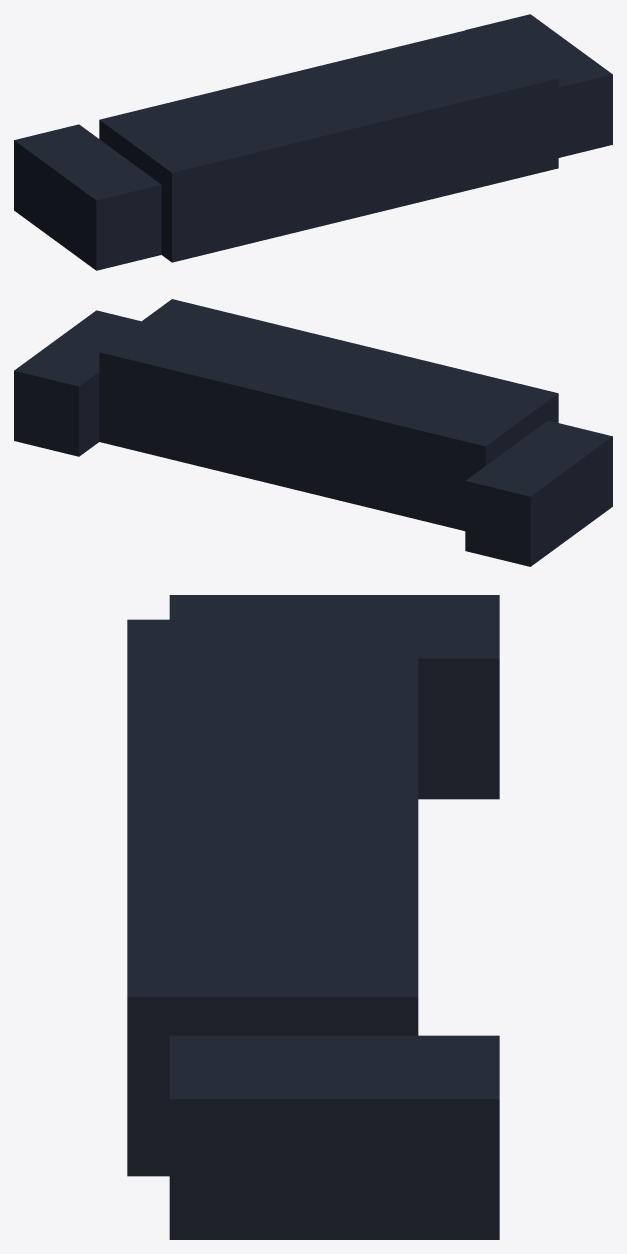
The model's file is COL_ShopKiosk_Body.obj.
3 renders of one model, top to bottom at view 1: azimuth 30°, elevation 25°; view 2: azimuth 150°, elevation 25°; view 3: azimuth 270°, elevation 25°, orthographic. The views are drawn at different scales.
Visible parts, largest first — view 1: COL_ShopKiosk_CounterHull, COL_ShopKiosk_WingHull_L, COL_ShopKiosk_WingHull_R; view 2: COL_ShopKiosk_CounterHull, COL_ShopKiosk_WingHull_L, COL_ShopKiosk_WingHull_R; view 3: COL_ShopKiosk_CounterHull, COL_ShopKiosk_WingHull_R, COL_ShopKiosk_WingHull_L.
Boxes of the visible parts, x1,y1,x2,y2 form: COL_ShopKiosk_CounterHull: (99,25,558,262); COL_ShopKiosk_WingHull_L: (14,124,161,270); COL_ShopKiosk_WingHull_R: (465,14,612,157); COL_ShopKiosk_CounterHull: (99,299,558,530); COL_ShopKiosk_WingHull_L: (465,420,612,566); COL_ShopKiosk_WingHull_R: (14,310,140,456); COL_ShopKiosk_CounterHull: (127,619,418,1176); COL_ShopKiosk_WingHull_R: (169,1035,499,1239); COL_ShopKiosk_WingHull_L: (169,595,499,799).
Bounding box in the file's own units: 20 × 3.32 × 6.24.
Materials: 1 (1 with a texture image).
